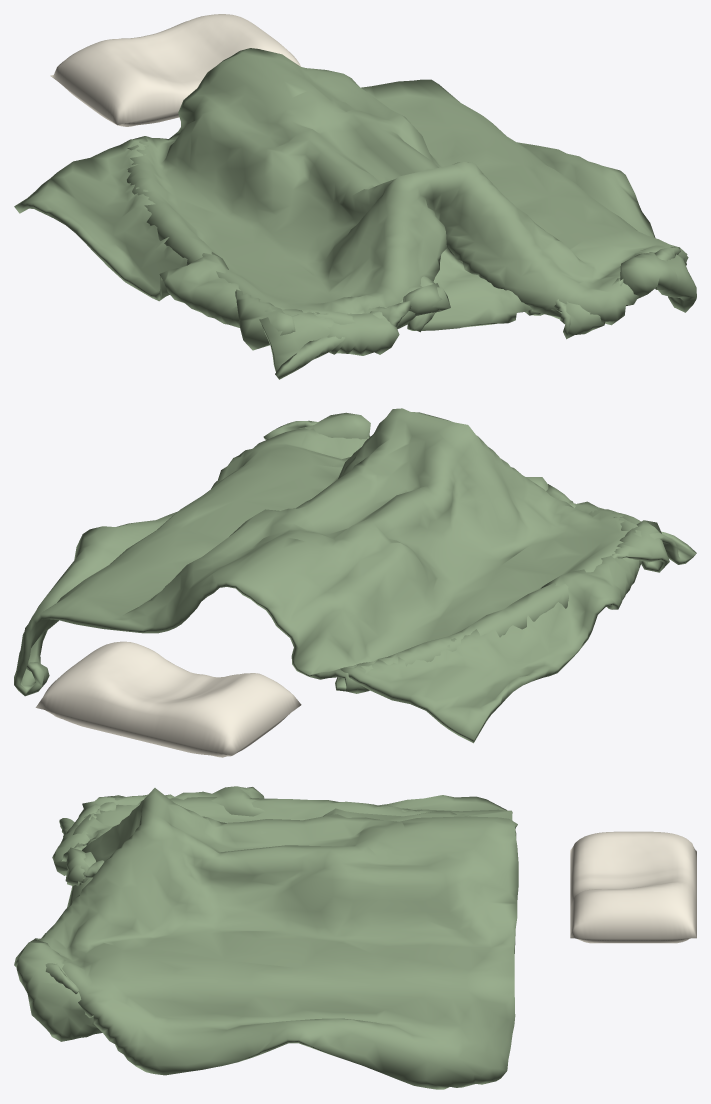
Rendered from bedding-rick-and-morty.glb.
3 views of the same model, one above another, from view 1: azimuth 30°, elevation 25°; view 2: azimuth 150°, elevation 25°; view 3: azimuth 270°, elevation 25° (orthographic). The views are drawn at different scales.
Parts seen in each view (by area): view 1: sleep_duvet_rick-and-morty, sleep_pillow_rick-and-morty; view 2: sleep_duvet_rick-and-morty, sleep_pillow_rick-and-morty; view 3: sleep_duvet_rick-and-morty, sleep_pillow_rick-and-morty.
Boxes of the visible parts, x1,y1,x2,y2 form: sleep_duvet_rick-and-morty: [14, 48, 696, 379]; sleep_pillow_rick-and-morty: [50, 14, 301, 126]; sleep_duvet_rick-and-morty: [14, 408, 696, 743]; sleep_pillow_rick-and-morty: [35, 641, 301, 757]; sleep_duvet_rick-and-morty: [14, 786, 518, 1089]; sleep_pillow_rick-and-morty: [570, 831, 696, 943].
Bounding box in the file's own units: 1.86 × 0.6943 × 2.37.
